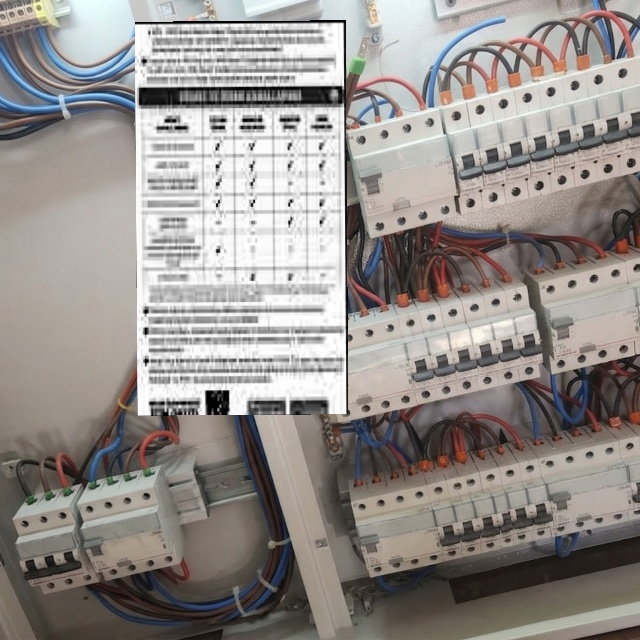electricity-bill: (135, 20, 348, 416)
